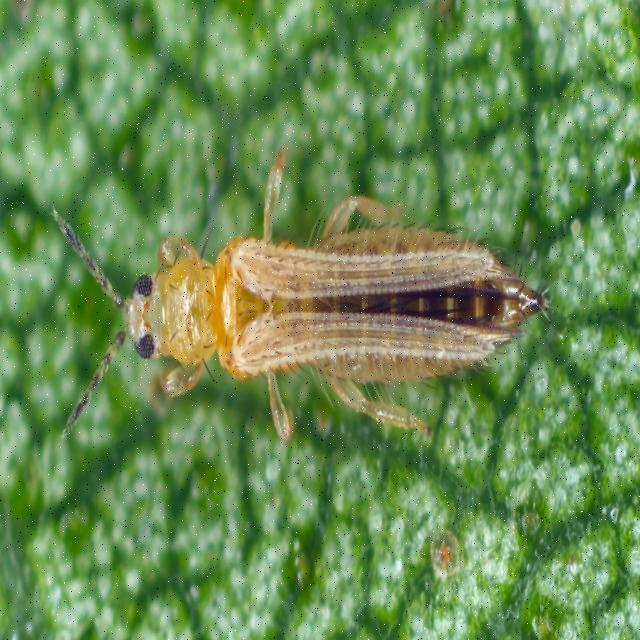Thrips: (59, 172, 560, 483)
